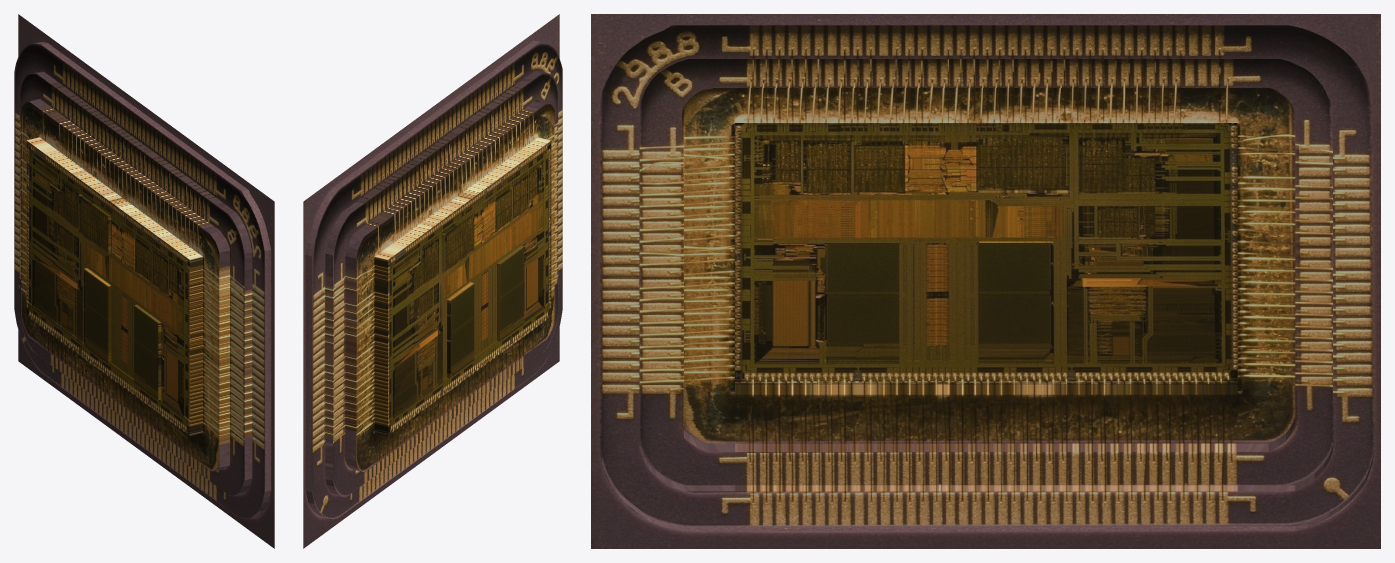
The model's file is intel 80486.fbx.
3 views of the same model, side by side, from view 1: azimuth 30°, elevation 25°; view 2: azimuth 150°, elevation 25°; view 3: azimuth 270°, elevation 25° (orthographic). The views are drawn at different scales.
Visible parts, largest first — view 1: Intel_80486; view 2: Intel_80486; view 3: Intel_80486.
Part boxes in pixels (bbox=[...]): Intel_80486: bbox=[14, 14, 274, 548]; Intel_80486: bbox=[303, 14, 562, 548]; Intel_80486: bbox=[591, 14, 1380, 548].
Size of the model in its own units: 12.23 by 100 by 134.
